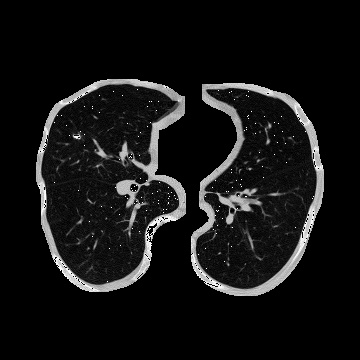PN: (73, 132, 81, 140)
